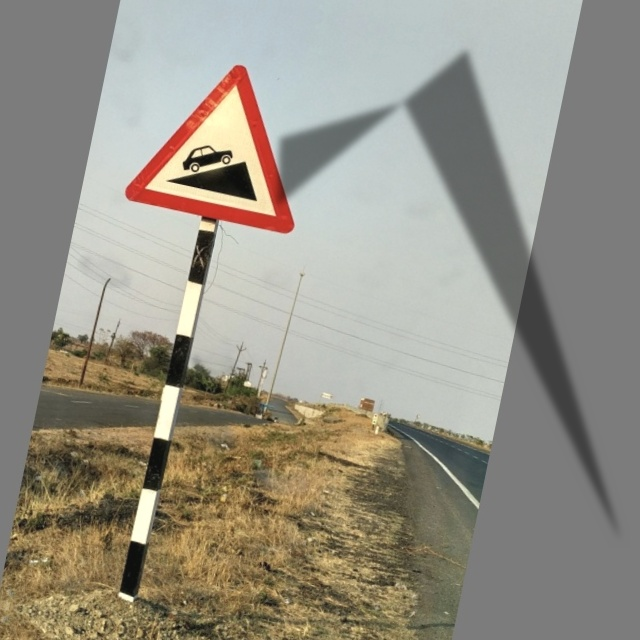Steep_Ascent: (118, 47, 325, 245)
